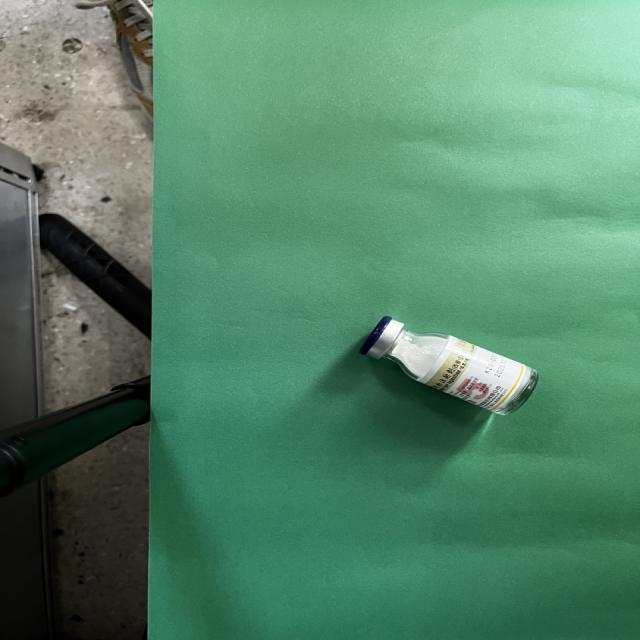Vials: (360, 316, 539, 416)
